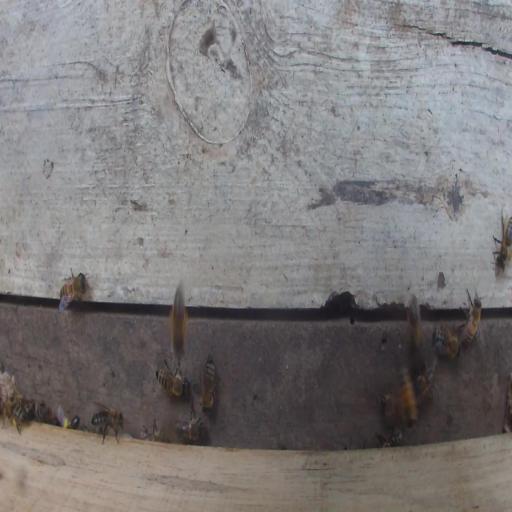bee: (169, 282, 188, 359), (155, 355, 189, 398), (460, 287, 482, 351), (397, 364, 419, 426), (58, 266, 88, 311), (90, 407, 124, 445), (492, 208, 511, 274), (433, 323, 460, 359), (406, 293, 422, 352), (201, 355, 214, 415), (415, 362, 435, 400), (176, 416, 203, 440), (375, 425, 403, 448), (2, 399, 25, 426), (379, 391, 399, 418), (15, 395, 31, 420), (32, 401, 49, 422)
